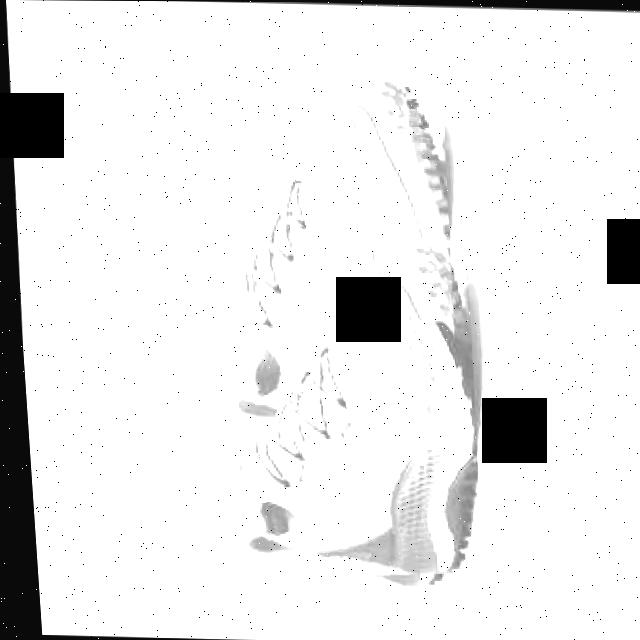shoe: (173, 58, 460, 444), (180, 218, 481, 585)
